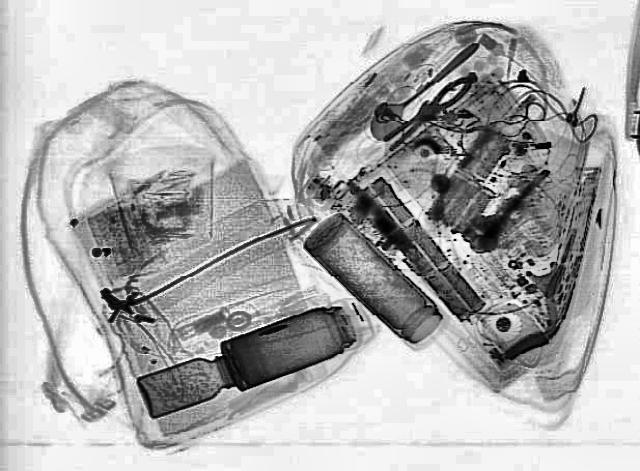Pliers: (375, 70, 481, 148)
